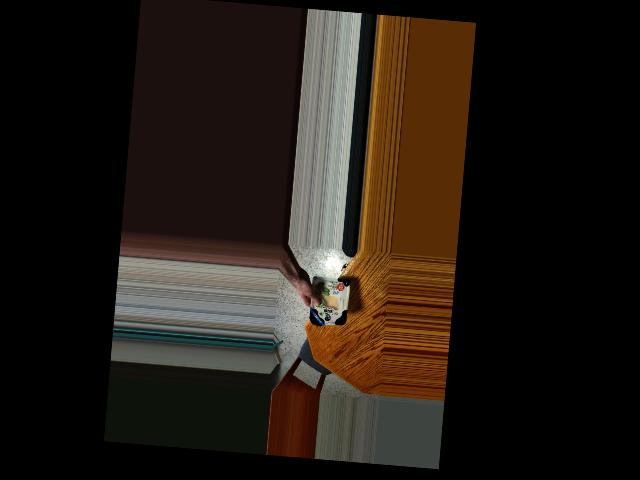cheese: (305, 272, 350, 328)
